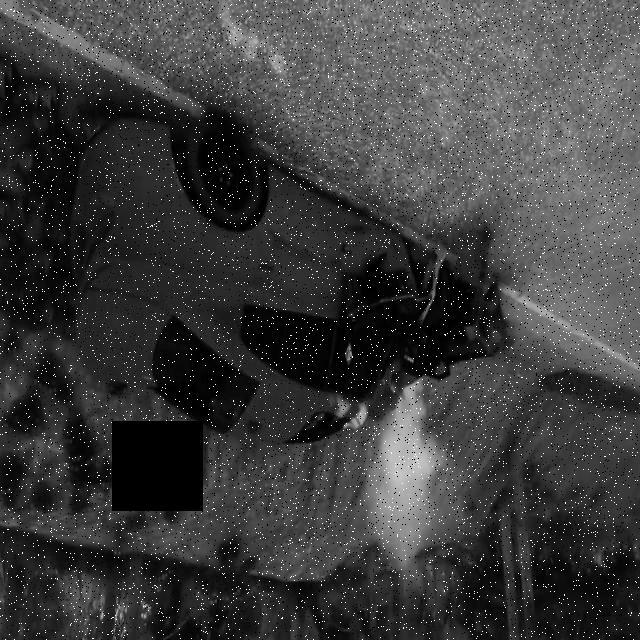severe: (64, 108, 516, 462)
